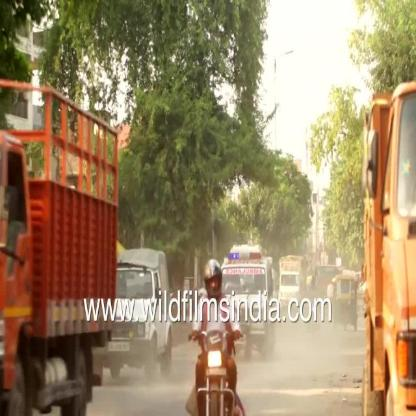priority: (215, 241, 280, 304)
